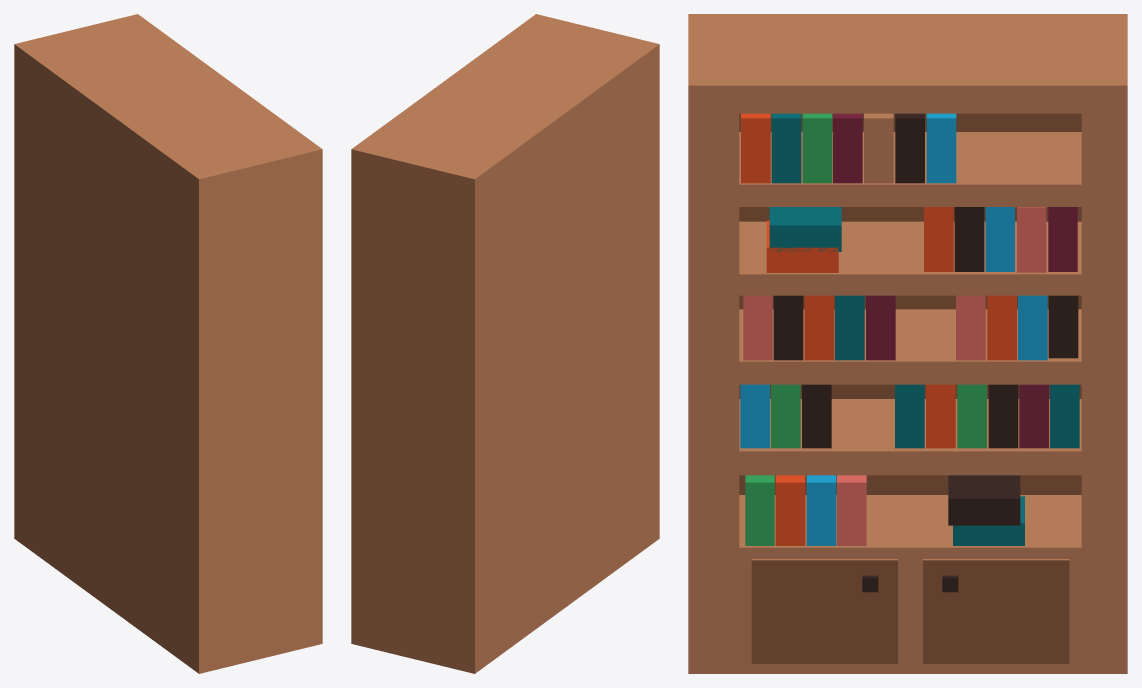
Rendered from book_case.fbx.
The picture shows the model from 3 angles, left to right: view 1: azimuth 30°, elevation 25°; view 2: azimuth 150°, elevation 25°; view 3: azimuth 270°, elevation 25°; orthographic projection. The views are drawn at different scales.
Visible parts, largest first — view 1: Cube; view 2: Cube; view 3: Cube, Cube.164, Cube.162, Cube.166, Cube.168, Cube.157, Cube.159, Cube.161, Cube.154, Cube.155, Cube.156, Cube.158 (+27 smaller).
Boxes of the visible parts, <box> form: Cube: <box>14,14,322,673</box>; Cube: <box>351,14,659,673</box>; Cube: <box>688,14,1127,673</box>; Cube.164: <box>948,475,1020,525</box>; Cube.162: <box>769,207,841,251</box>; Cube.166: <box>775,475,805,545</box>; Cube.168: <box>806,475,836,545</box>; Cube.157: <box>771,113,801,183</box>; Cube.159: <box>926,113,956,183</box>; Cube.161: <box>802,113,832,183</box>; Cube.154: <box>895,113,924,183</box>; Cube.155: <box>864,113,893,183</box>; Cube.156: <box>833,113,862,183</box>; Cube.158: <box>741,113,770,183</box>.
Size of the model in its own units: 36.49 by 133 by 89.95.
